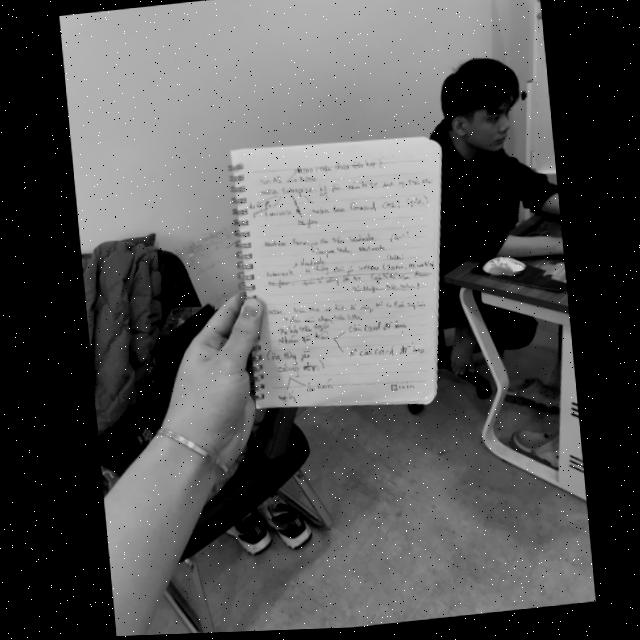document: (230, 134, 442, 409)
face: (445, 65, 520, 157)
